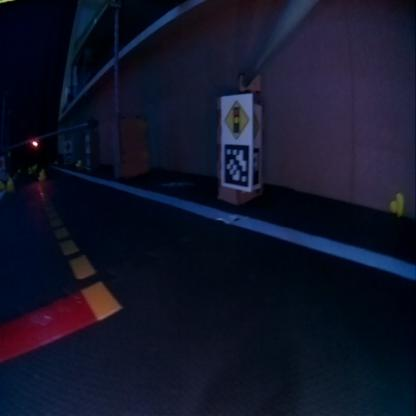Duckie: (389, 191, 403, 216), (7, 180, 14, 190), (38, 172, 45, 180), (76, 160, 80, 166)
QR code: (222, 143, 250, 187)
Signal sign: (224, 99, 250, 139)
